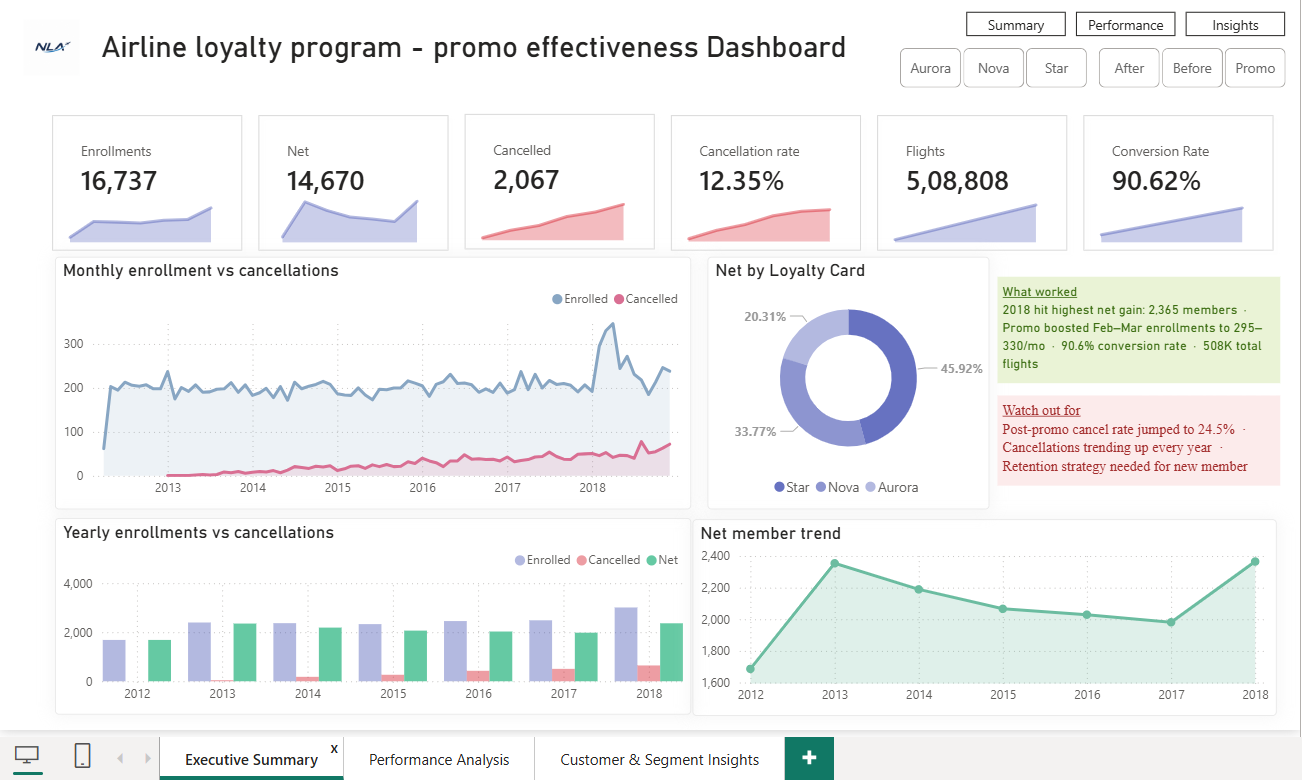

This screenshot's page, from the dashboard's own definition file:
{"tool":"powerbi","page":{"name":"Executive Summary","canvas":[1280,720],"ordinal":0},"visuals":[{"type":"image","box":[0,20.6,101.6,55.6],"z":0},{"type":"shape","box":[450.3,107.5,201.2,147.5],"z":0,"group":"g2"},{"type":"shape","box":[44,107.8,201.2,147.5],"z":0,"group":"g1"},{"type":"shape","box":[247.3,107.8,201.2,147.5],"z":0,"group":"g4"},{"type":"shape","box":[653.8,107.8,201.2,147.5],"z":0,"group":"g3"},{"type":"shape","box":[857,107.8,201.2,147.5],"z":0,"group":"g5"},{"type":"shape","box":[1060.3,107.8,201.2,147.5],"z":0,"group":"g6"},{"type":"textbox","box":[94.5,25.5,772.7,47.3],"z":1000},{"type":"cardVisual","fields":{"Data":["metrics.total cancellation"]},"box":[456.5,107.5,190,116.2],"z":1000,"group":"g2"},{"type":"cardVisual","fields":{"Data":["metrics.total enrollment"]},"box":[50.2,107.8,190,116.2],"z":1000,"group":"g1"},{"type":"cardVisual","fields":{"Data":["metrics.net members"]},"box":[253.5,107.8,190,116.2],"z":1000,"group":"g4"},{"type":"cardVisual","fields":{"Data":["metrics.Cancellation rate"]},"box":[660,107.8,190,116.2],"z":1000,"group":"g3"},{"type":"cardVisual","fields":{"Data":["metrics.total flights"]},"box":[863.2,107.8,190,116.2],"z":1000,"group":"g5"},{"type":"cardVisual","fields":{"Data":["metrics.Conversion Rate"]},"box":[1066.5,107.8,190,116.2],"z":1000,"group":"g6"},{"type":"group","id":"g1","title":"Group 1","box":[44,107.8,201.2,147.5],"z":2000},{"type":"areaChart","fields":{"Category":["Calendar.Date.Variation.Date Hierarchy.Year"],"Y":["metrics.total cancellation"]},"box":[460.3,181.3,168.8,63.8],"z":2000,"group":"g2"},{"type":"areaChart","fields":{"Y":["metrics.total enrollment"],"Category":["Calendar.Date.Variation.Date Hierarchy.Year"]},"box":[54,181.6,168.8,63.8],"z":2000,"group":"g1"},{"type":"areaChart","fields":{"Category":["Calendar.Date.Variation.Date Hierarchy.Year"],"Y":["metrics.Cancellation rate"]},"box":[663.8,181.6,168.8,63.8],"z":2000,"group":"g3"},{"type":"areaChart","fields":{"Category":["Calendar.Date.Variation.Date Hierarchy.Year"],"Y":["metrics.total flights"]},"box":[867,181.6,168.8,63.8],"z":2000,"group":"g5"},{"type":"areaChart","fields":{"Category":["Calendar.Date.Variation.Date Hierarchy.Year"],"Y":["metrics.Conversion Rate"]},"box":[1070.3,181.6,168.8,63.8],"z":2000,"group":"g6"},{"type":"areaChart","fields":{"Category":["Calendar.Date.Variation.Date Hierarchy.Year"],"Y":["metrics.net members"]},"box":[263.2,184.4,162.5,61.2],"z":2000,"group":"g4"},{"type":"group","id":"g2","title":"Group 1","box":[450.3,107.5,201.2,147.5],"z":3000},{"type":"group","id":"g3","title":"Group 1","box":[653.8,107.8,201.2,147.5],"z":4000},{"type":"group","id":"g4","title":"Group 1","box":[247.3,107.8,201.2,147.5],"z":5000},{"type":"group","id":"g5","title":"Group 1","box":[857,107.8,201.2,147.5],"z":6000},{"type":"group","id":"g6","title":"Group 1","box":[1060.3,107.8,201.2,147.5],"z":7000},{"type":"lineChart","title":"Monthly enrollment vs cancellations","fields":{"Y":["metrics.total enrollment","metrics.total cancellation"],"Category":["Calendar.Date.Variation.Date Hierarchy.Year","Calendar.Date.Variation.Date Hierarchy.Month"]},"box":[53.8,255,626.2,248.8],"z":8000},{"type":"clusteredColumnChart","title":"Yearly enrollments vs cancellations","fields":{"Y":["metrics.total enrollment","metrics.total cancellation","metrics.net members"],"Category":["Calendar.Date.Variation.Date Hierarchy.Year"]},"box":[53.8,512.5,626.2,193.8],"z":9000},{"type":"areaChart","title":"Net member trend","fields":{"Category":["Calendar.Date.Variation.Date Hierarchy.Year","Calendar.Date.Variation.Date Hierarchy.Quarter","Calendar.Date.Variation.Date Hierarchy.Month","Calendar.Date.Variation.Date Hierarchy.Day"],"Y":["metrics.net members"]},"box":[681.2,513.8,575,193.8],"z":10000},{"type":"donutChart","title":"Net by Loyalty Card","fields":{"Category":["Customer Loyalty History.Loyalty Card"],"Y":["metrics.net members"]},"box":[696.2,255,277.5,248.8],"z":11000},{"type":"textbox","box":[982.5,391.2,278.8,88.8],"z":12000},{"type":"textbox","box":[982.5,275,278.8,105],"z":13000},{"type":"bookmarkNavigator","box":[951.4,13.5,316.3,24.6],"z":14000},{"type":"advancedSlicerVisual","fields":{"Values":["Calendar.period type"]},"box":[1081.8,49.2,184.6,39.4],"z":15000},{"type":"advancedSlicerVisual","fields":{"Values":["Customer Loyalty History.Loyalty Card"]},"box":[886.2,49.2,184.6,39.4],"z":16000}]}

Visuals, with their boxes on the page's 1280x720 design canvas (x1, y1, x2, y2). These are canvas units, not pixel positions in the 1302x780 screenshot, which may show the page scaled, cropped or inside an application window:
image: {"left": 0, "top": 21, "right": 102, "bottom": 76}
shape: {"left": 450, "top": 108, "right": 652, "bottom": 255}
shape: {"left": 44, "top": 108, "right": 245, "bottom": 255}
shape: {"left": 247, "top": 108, "right": 448, "bottom": 255}
shape: {"left": 654, "top": 108, "right": 855, "bottom": 255}
shape: {"left": 857, "top": 108, "right": 1058, "bottom": 255}
shape: {"left": 1060, "top": 108, "right": 1262, "bottom": 255}
textbox: {"left": 94, "top": 26, "right": 867, "bottom": 73}
cardVisual - metrics.total cancellation: {"left": 456, "top": 108, "right": 646, "bottom": 224}
cardVisual - metrics.total enrollment: {"left": 50, "top": 108, "right": 240, "bottom": 224}
cardVisual - metrics.net members: {"left": 254, "top": 108, "right": 444, "bottom": 224}
cardVisual - metrics.Cancellation rate: {"left": 660, "top": 108, "right": 850, "bottom": 224}
cardVisual - metrics.total flights: {"left": 863, "top": 108, "right": 1053, "bottom": 224}
cardVisual - metrics.Conversion Rate: {"left": 1066, "top": 108, "right": 1256, "bottom": 224}
"Group 1" group: {"left": 44, "top": 108, "right": 245, "bottom": 255}
areaChart - Calendar.Date.Variation.Date Hierarchy.Year x metrics.total cancellation: {"left": 460, "top": 181, "right": 629, "bottom": 245}
areaChart - metrics.total enrollment x Calendar.Date.Variation.Date Hierarchy.Year: {"left": 54, "top": 182, "right": 223, "bottom": 245}
areaChart - Calendar.Date.Variation.Date Hierarchy.Year x metrics.Cancellation rate: {"left": 664, "top": 182, "right": 833, "bottom": 245}
areaChart - Calendar.Date.Variation.Date Hierarchy.Year x metrics.total flights: {"left": 867, "top": 182, "right": 1036, "bottom": 245}
areaChart - Calendar.Date.Variation.Date Hierarchy.Year x metrics.Conversion Rate: {"left": 1070, "top": 182, "right": 1239, "bottom": 245}
areaChart - Calendar.Date.Variation.Date Hierarchy.Year x metrics.net members: {"left": 263, "top": 184, "right": 426, "bottom": 246}
"Group 1" group: {"left": 450, "top": 108, "right": 652, "bottom": 255}
"Group 1" group: {"left": 654, "top": 108, "right": 855, "bottom": 255}
"Group 1" group: {"left": 247, "top": 108, "right": 448, "bottom": 255}
"Group 1" group: {"left": 857, "top": 108, "right": 1058, "bottom": 255}
"Group 1" group: {"left": 1060, "top": 108, "right": 1262, "bottom": 255}
"Monthly enrollment vs cancellations" lineChart: {"left": 54, "top": 255, "right": 680, "bottom": 504}
"Yearly enrollments vs cancellations" clusteredColumnChart: {"left": 54, "top": 512, "right": 680, "bottom": 706}
"Net member trend" areaChart: {"left": 681, "top": 514, "right": 1256, "bottom": 708}
"Net by Loyalty Card" donutChart: {"left": 696, "top": 255, "right": 974, "bottom": 504}
textbox: {"left": 982, "top": 391, "right": 1261, "bottom": 480}
textbox: {"left": 982, "top": 275, "right": 1261, "bottom": 380}
bookmarkNavigator: {"left": 951, "top": 14, "right": 1268, "bottom": 38}
advancedSlicerVisual - Calendar.period type: {"left": 1082, "top": 49, "right": 1266, "bottom": 89}
advancedSlicerVisual - Customer Loyalty History.Loyalty Card: {"left": 886, "top": 49, "right": 1071, "bottom": 89}
